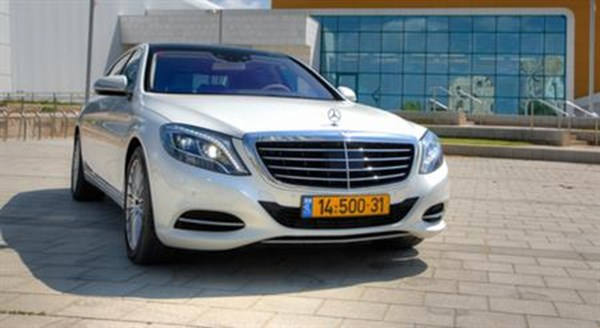licence: (298, 190, 393, 220)
